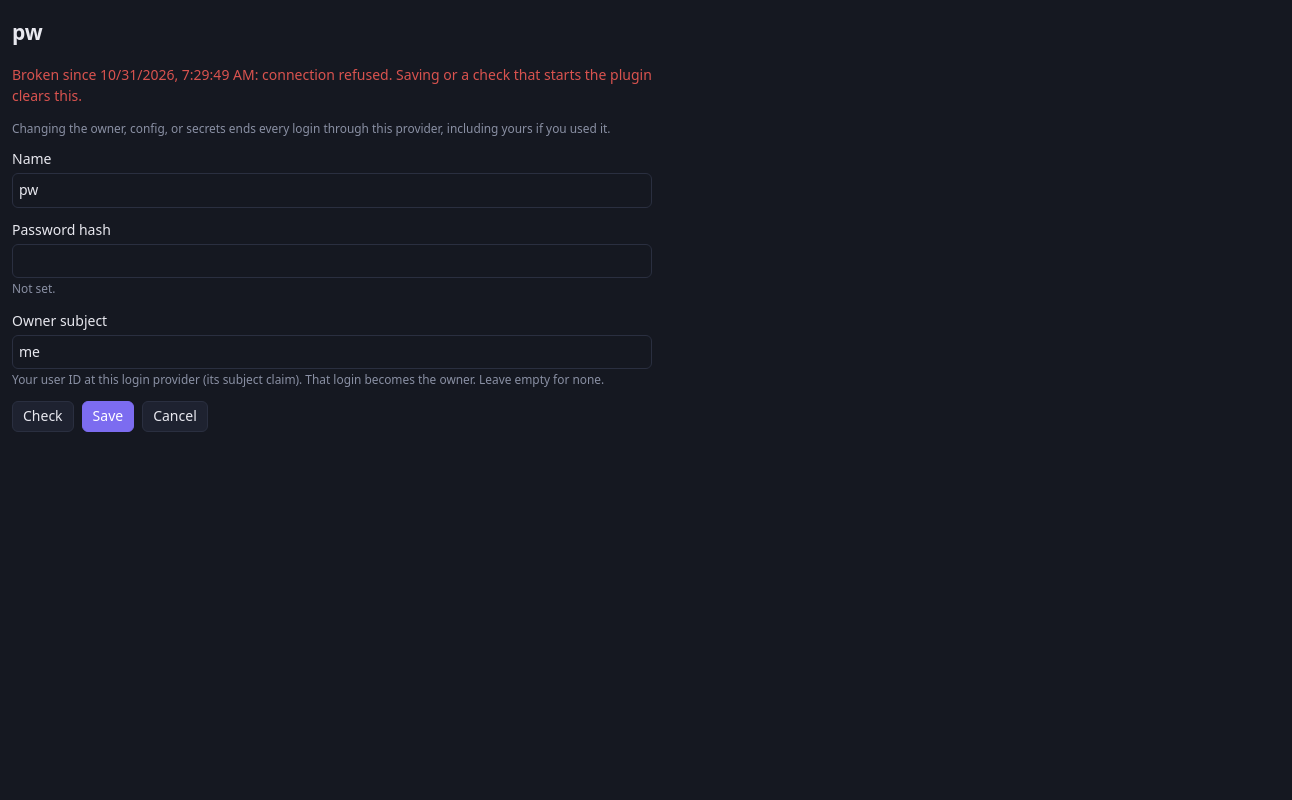
it: an owner saved with trailing spaces leaves the form clean
Type "2 " into the field labelled "Owner subject" at x=332, y=352, box [12,335,652,369]
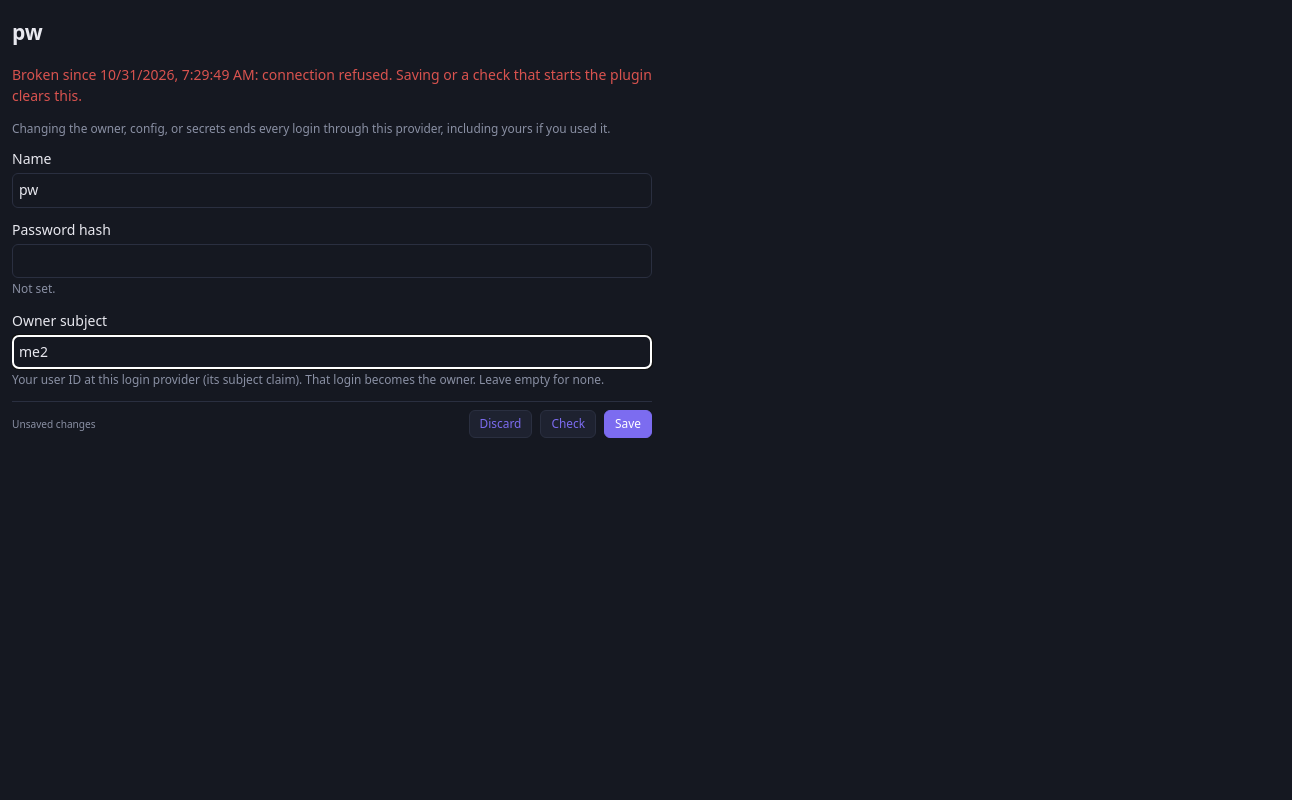
Click the button "Save" at x=628, y=424, box [604,410,652,438]
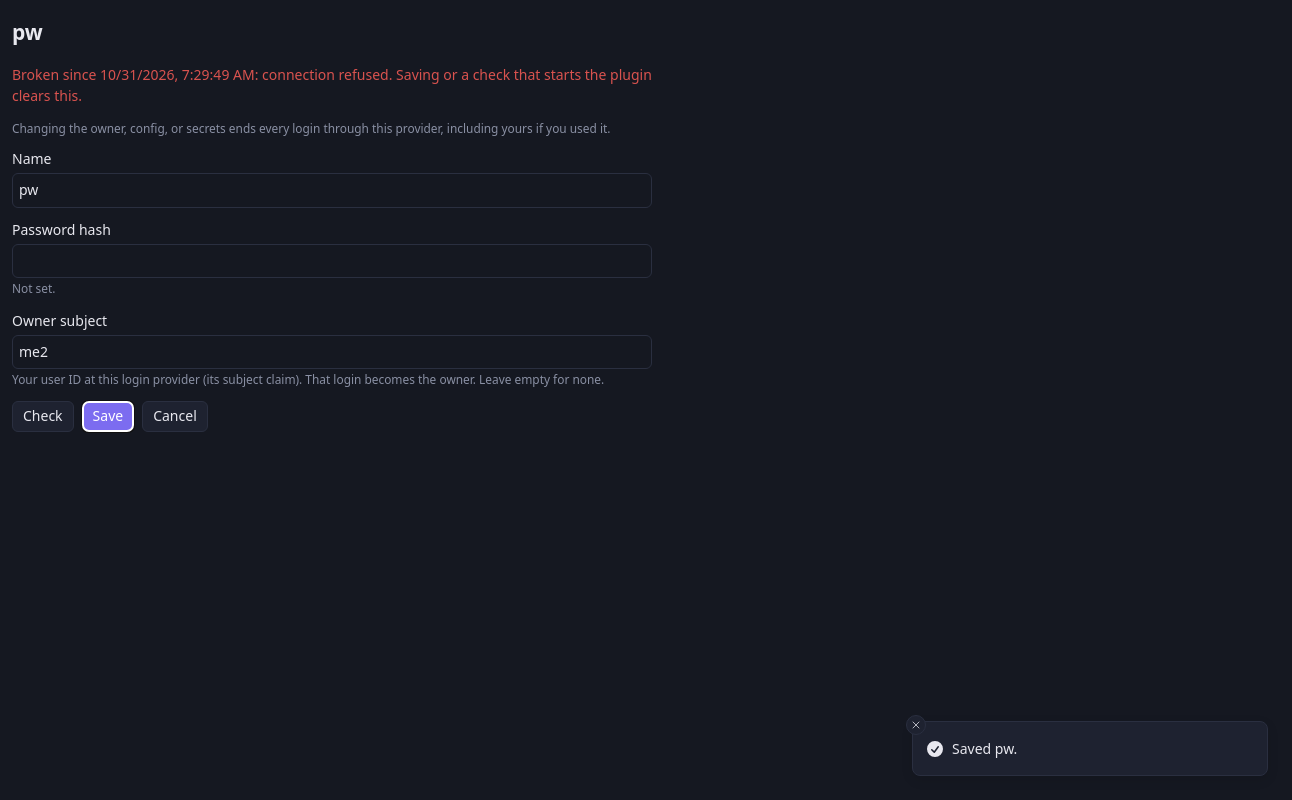
Check: the text "Unsaved changes" is gone
